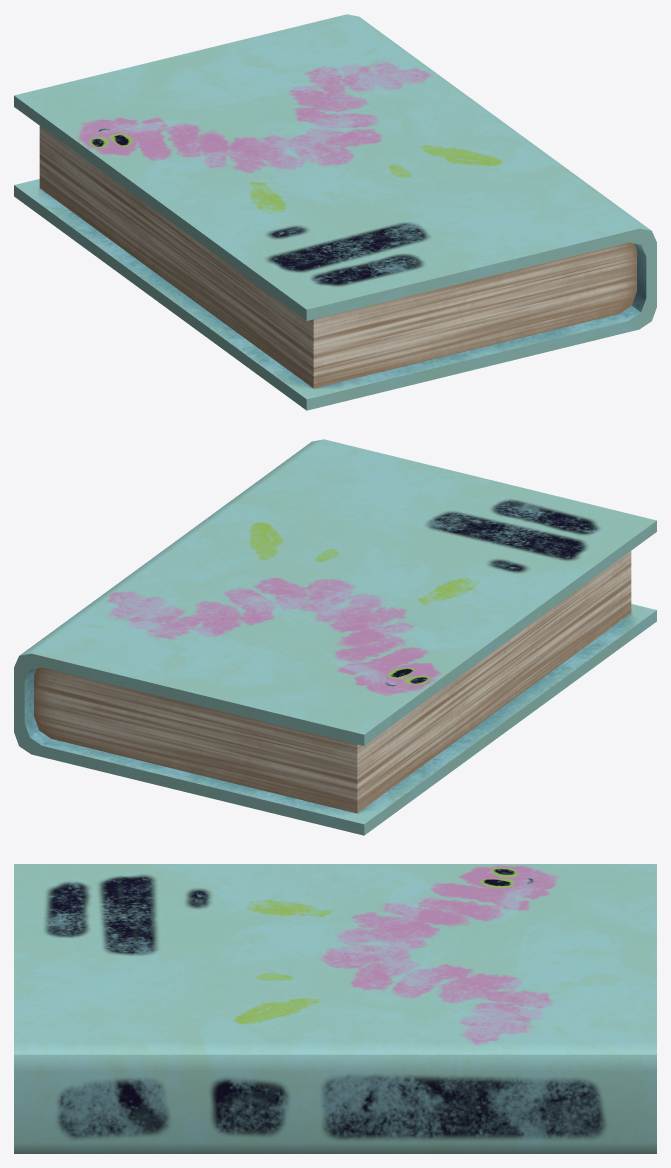
Rendered from SmallBook_Textured.fbx.
3 views of the same model, one above another, from view 1: azimuth 30°, elevation 25°; view 2: azimuth 150°, elevation 25°; view 3: azimuth 270°, elevation 25° (orthographic). The views are drawn at different scales.
Visible parts, largest first — view 1: PR_Bookspine_01, PR_Paper; view 2: PR_Bookspine_01, PR_Paper; view 3: PR_Bookspine_01.
Boxes of the visible parts, bbox=[...] form: PR_Bookspine_01: bbox=[14, 14, 656, 410]; PR_Paper: bbox=[39, 126, 636, 388]; PR_Bookspine_01: bbox=[14, 439, 656, 835]; PR_Paper: bbox=[34, 551, 631, 813]; PR_Bookspine_01: bbox=[14, 864, 656, 1153].
Size of the model in its own units: 3.03 by 0.8339 by 4.39.
Materials: 1 (1 with a texture image).
